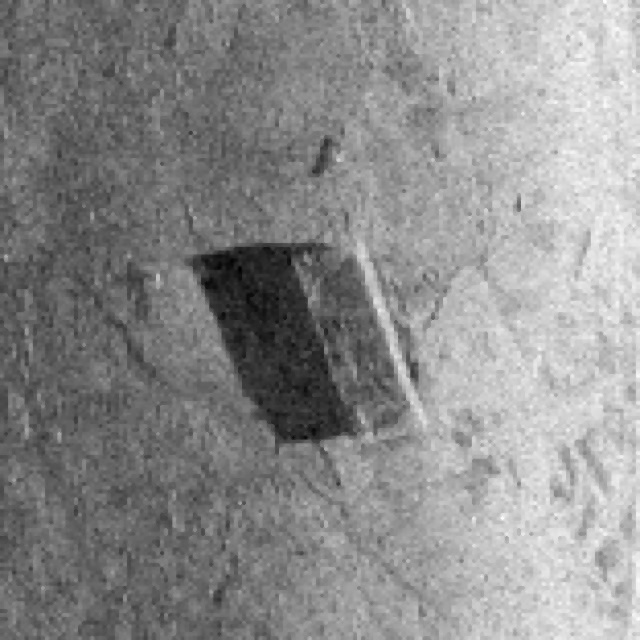Ship: (270, 219, 439, 462)
